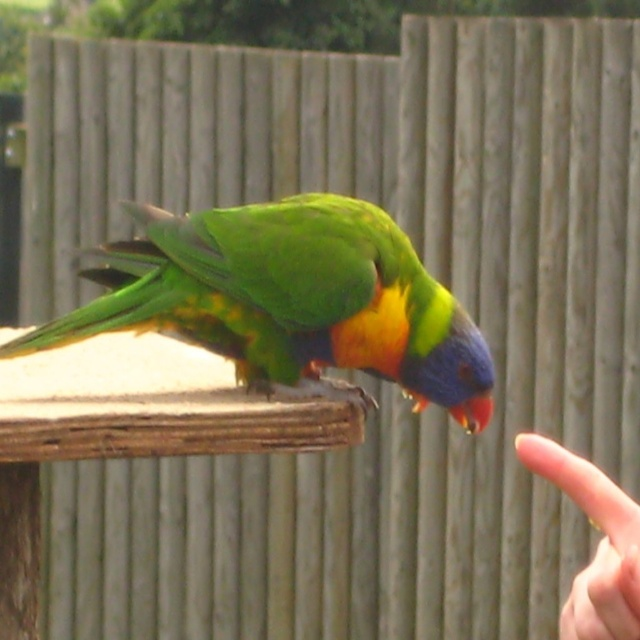Parrot: (0, 193, 495, 433)
